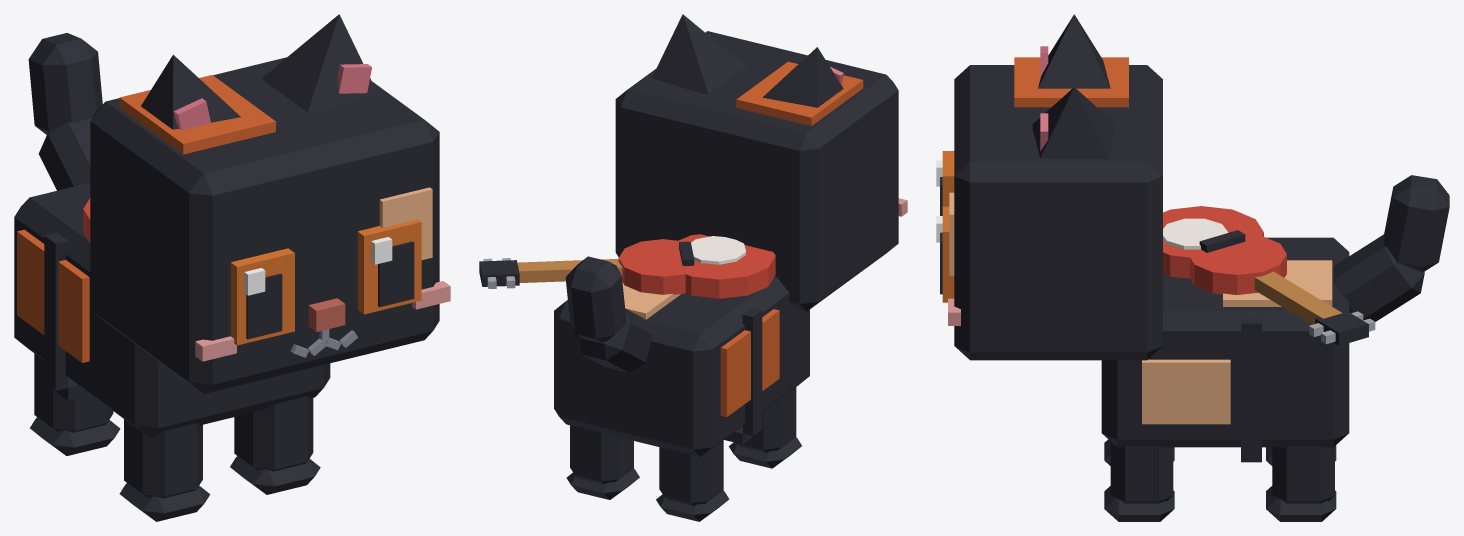
Rendered from CatCafe_Cat_Tortie.glb.
3 views of the same model, side by side, from view 1: azimuth 30°, elevation 25°; view 2: azimuth 150°, elevation 25°; view 3: azimuth 270°, elevation 25° (orthographic). The views are drawn at different scales.
Visible parts, largest first — view 1: CatCafe_Cat_Tortie_Head, CatCafe_Cat_Tortie_Body, CatCafe_Cat_Tortie_Tail, CatCafe_Cat_Tortie_LegF2, CatCafe_Cat_Tortie_LegF1, CatCafe_Cat_Tortie_EarL, CatCafe_Cat_Tortie_Eye2, CatCafe_Cat_Tortie_Eye1, CatCafe_Cat_Tortie_LegB2, CatCafe_Cat_Tortie_EarR, CatCafe_Cat_Tortie_Prop; view 2: CatCafe_Cat_Tortie_Head, CatCafe_Cat_Tortie_Body, CatCafe_Cat_Tortie_Prop, CatCafe_Cat_Tortie_Tail, CatCafe_Cat_Tortie_LegB2, CatCafe_Cat_Tortie_EarL, CatCafe_Cat_Tortie_LegB1, CatCafe_Cat_Tortie_LegF2, CatCafe_Cat_Tortie_EarR; view 3: CatCafe_Cat_Tortie_Head, CatCafe_Cat_Tortie_Body, CatCafe_Cat_Tortie_Prop, CatCafe_Cat_Tortie_Tail, CatCafe_Cat_Tortie_LegF1, CatCafe_Cat_Tortie_LegB1, CatCafe_Cat_Tortie_EarL, CatCafe_Cat_Tortie_EarR, CatCafe_Cat_Tortie_Eye1, CatCafe_Cat_Tortie_Eye2.
Boxes of the visible parts, x1,y1,x2,y2 form: CatCafe_Cat_Tortie_Head: (90,57,450,393); CatCafe_Cat_Tortie_Body: (14,183,330,437); CatCafe_Cat_Tortie_Tail: (28,33,102,190); CatCafe_Cat_Tortie_LegF2: (119,419,209,521); CatCafe_Cat_Tortie_LegF1: (230,396,320,494); CatCafe_Cat_Tortie_EarL: (261,14,377,112); CatCafe_Cat_Tortie_Eye2: (230,248,294,345); CatCafe_Cat_Tortie_Eye1: (357,219,421,314); CatCafe_Cat_Tortie_LegB2: (30,353,120,455); CatCafe_Cat_Tortie_EarR: (141,54,240,130); CatCafe_Cat_Tortie_Prop: (44,198,90,400); CatCafe_Cat_Tortie_Head: (615,31,907,311); CatCafe_Cat_Tortie_Body: (554,277,809,456); CatCafe_Cat_Tortie_Prop: (479,234,775,444); CatCafe_Cat_Tortie_Tail: (565,256,652,372); CatCafe_Cat_Tortie_LegB2: (656,440,729,521); CatCafe_Cat_Tortie_EarL: (652,14,745,93); CatCafe_Cat_Tortie_LegB1: (566,425,639,499); CatCafe_Cat_Tortie_LegF2: (729,387,801,468); CatCafe_Cat_Tortie_EarR: (762,47,843,107); CatCafe_Cat_Tortie_Head: (948,57,1162,360); CatCafe_Cat_Tortie_Body: (1101,237,1349,447); CatCafe_Cat_Tortie_Prop: (1163,206,1375,462); CatCafe_Cat_Tortie_Tail: (1333,175,1449,321); CatCafe_Cat_Tortie_LegF1: (1104,442,1174,521); CatCafe_Cat_Tortie_LegB1: (1266,446,1336,521); CatCafe_Cat_Tortie_EarL: (1032,87,1115,158); CatCafe_Cat_Tortie_EarR: (1038,14,1110,88); CatCafe_Cat_Tortie_Eye1: (936,206,954,302); CatCafe_Cat_Tortie_Eye2: (936,151,954,215).
Size of the model in its own units: 1.25 by 1.86 by 1.97.
1 material, 1 textured.
